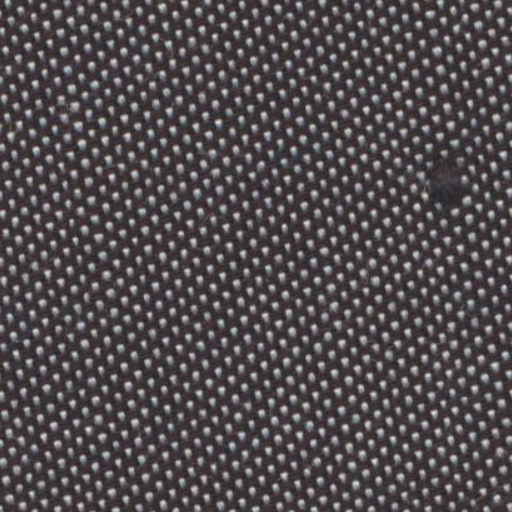MianQiu: (421, 143, 473, 214)
